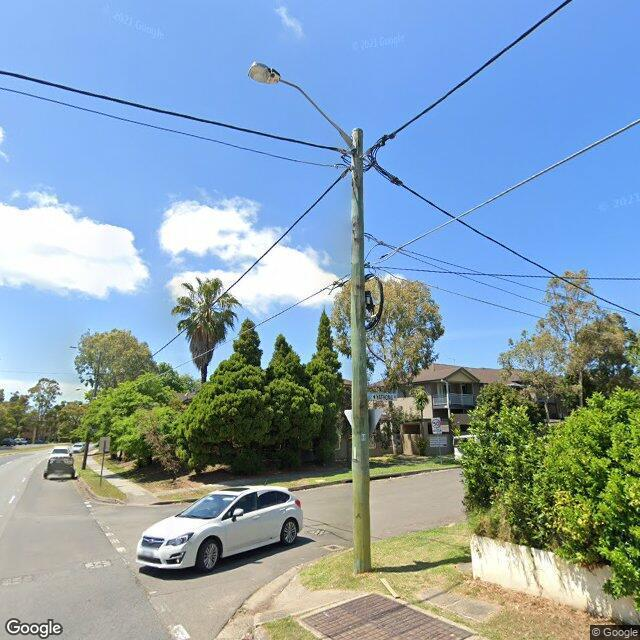streetlight: (248, 61, 355, 149)
timber-pole: (351, 128, 371, 572), (81, 367, 100, 470)
